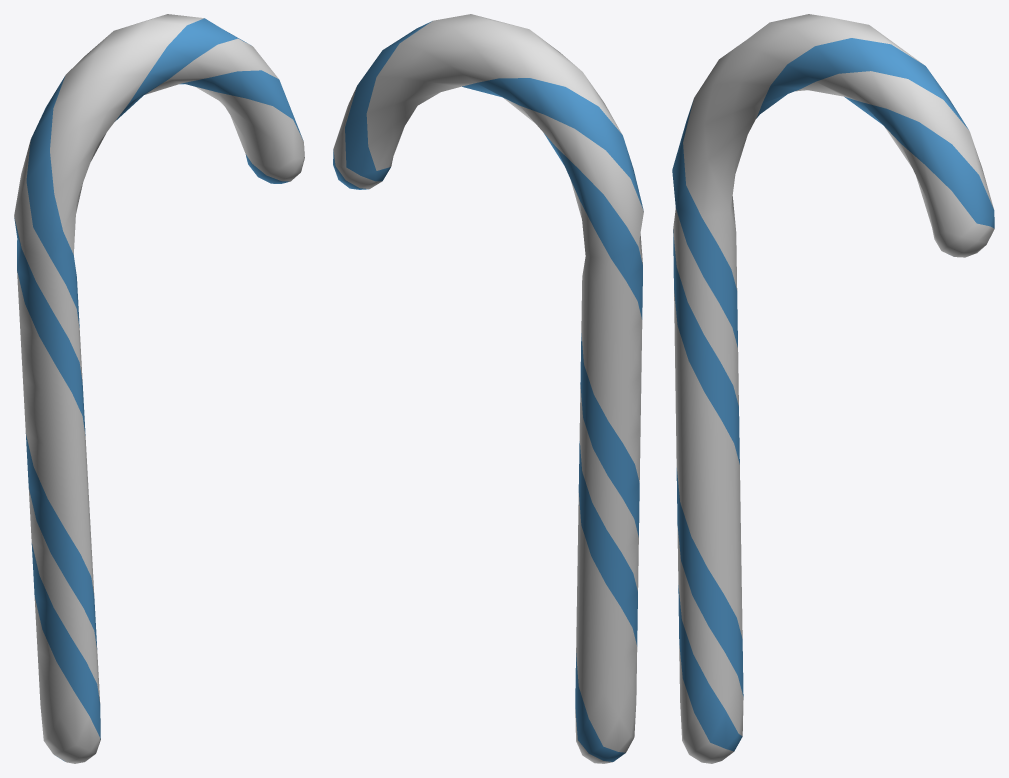
The model's file is SugarCane.fbx.
The picture shows the model from 3 angles, left to right: view 1: azimuth 30°, elevation 25°; view 2: azimuth 150°, elevation 25°; view 3: azimuth 330°, elevation 25°; orthographic projection. The views are drawn at different scales.
Visible parts, largest first — view 1: Circle.001; view 2: Circle.001; view 3: Circle.001.
Part boxes in pixels (x1=…): Circle.001: x1=14, y1=14, x2=304, y2=763; Circle.001: x1=333, y1=14, x2=643, y2=763; Circle.001: x1=672, y1=14, x2=994, y2=763.
Bounding box in the file's own units: 183 × 434 × 57.63.
